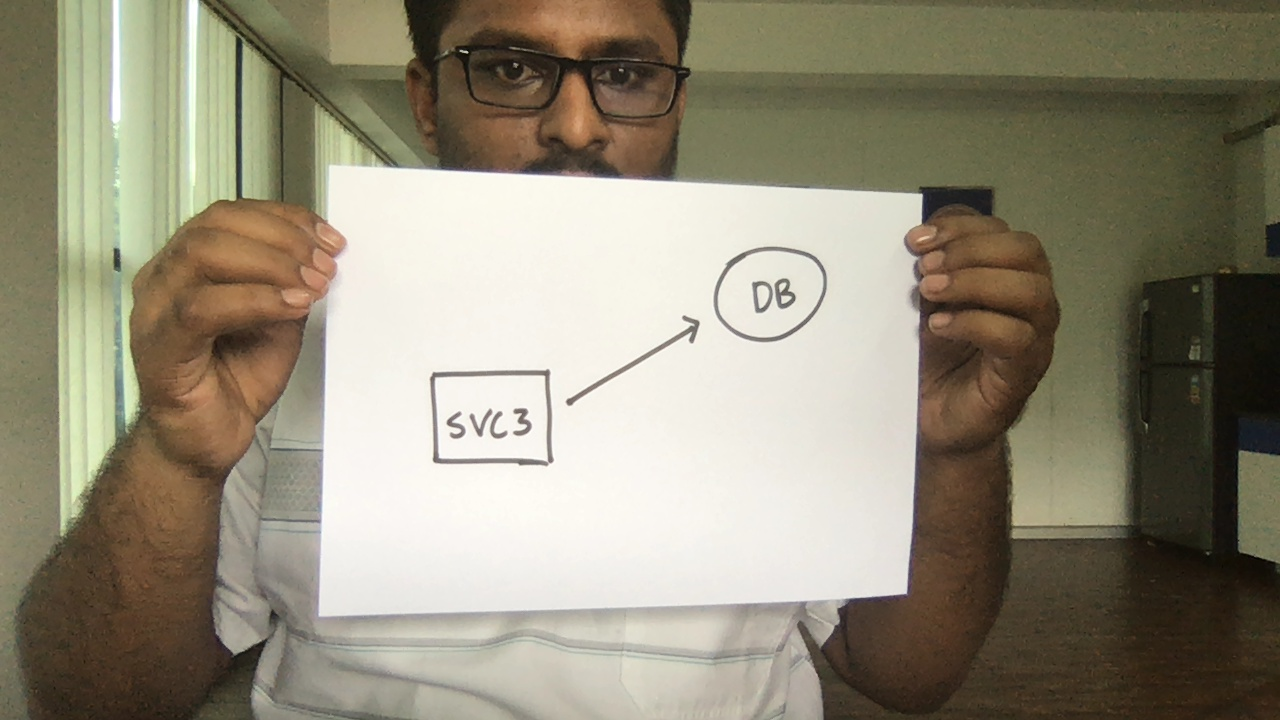arrow: (559, 308, 707, 420)
db: (706, 236, 835, 350)
ec2: (418, 358, 562, 477)
